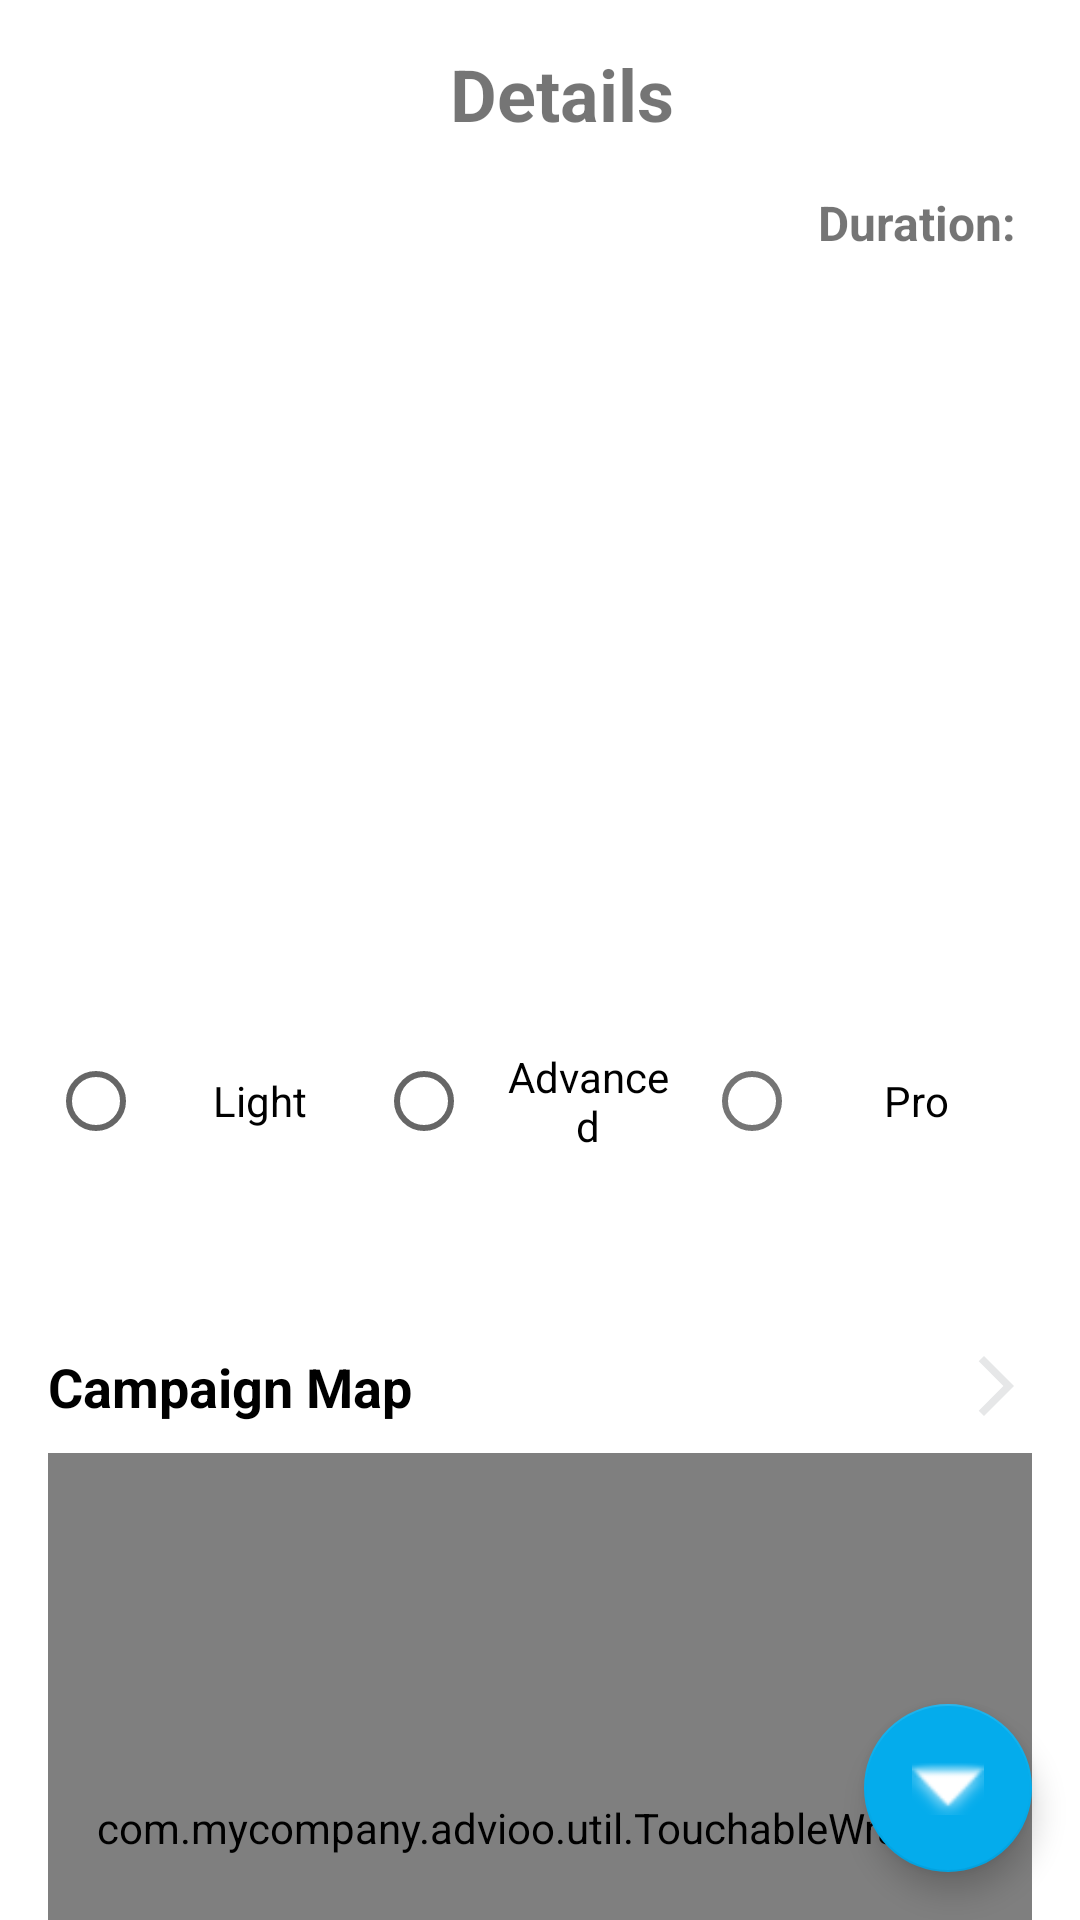

Named icons in this screenshot (1080px x 1920px) and their centers, point (x, y):
arrow down float: point (948, 1788)
